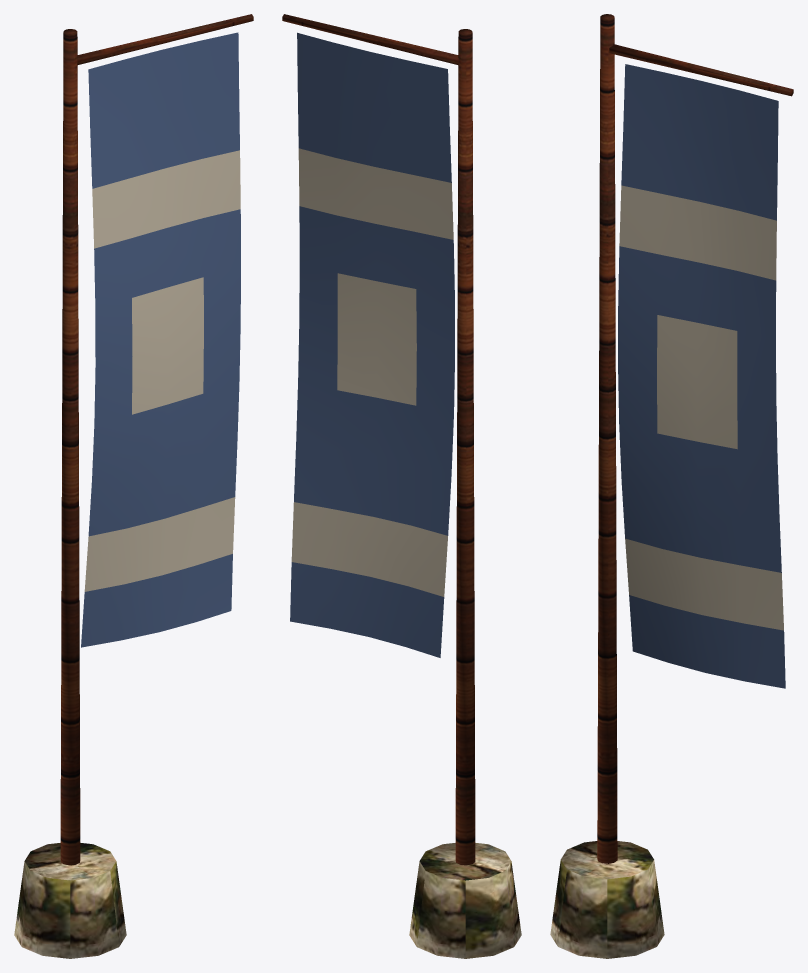
The model's file is edo_nobori_banner.glb.
3 views of the same model, side by side, from view 1: azimuth 30°, elevation 25°; view 2: azimuth 150°, elevation 25°; view 3: azimuth 330°, elevation 25° (orthographic).
Parts seen in each view (by area): view 1: nobori_cloth, nobori_pole, nobori_base; view 2: nobori_cloth, nobori_pole, nobori_base; view 3: nobori_cloth, nobori_pole, nobori_base.
Part boxes in pixels (x1,y1,x2,y2): nobori_cloth: [81, 32, 240, 647]; nobori_pole: [60, 14, 253, 865]; nobori_base: [14, 843, 126, 958]; nobori_cloth: [290, 32, 454, 657]; nobori_pole: [282, 14, 475, 865]; nobori_base: [409, 843, 521, 958]; nobori_cloth: [618, 64, 785, 688]; nobori_pole: [597, 14, 793, 863]; nobori_base: [550, 841, 664, 958].
Size of the model in its own units: 1.04 by 3.9 by 0.44.
Materials: 4 (2 with a texture image).
